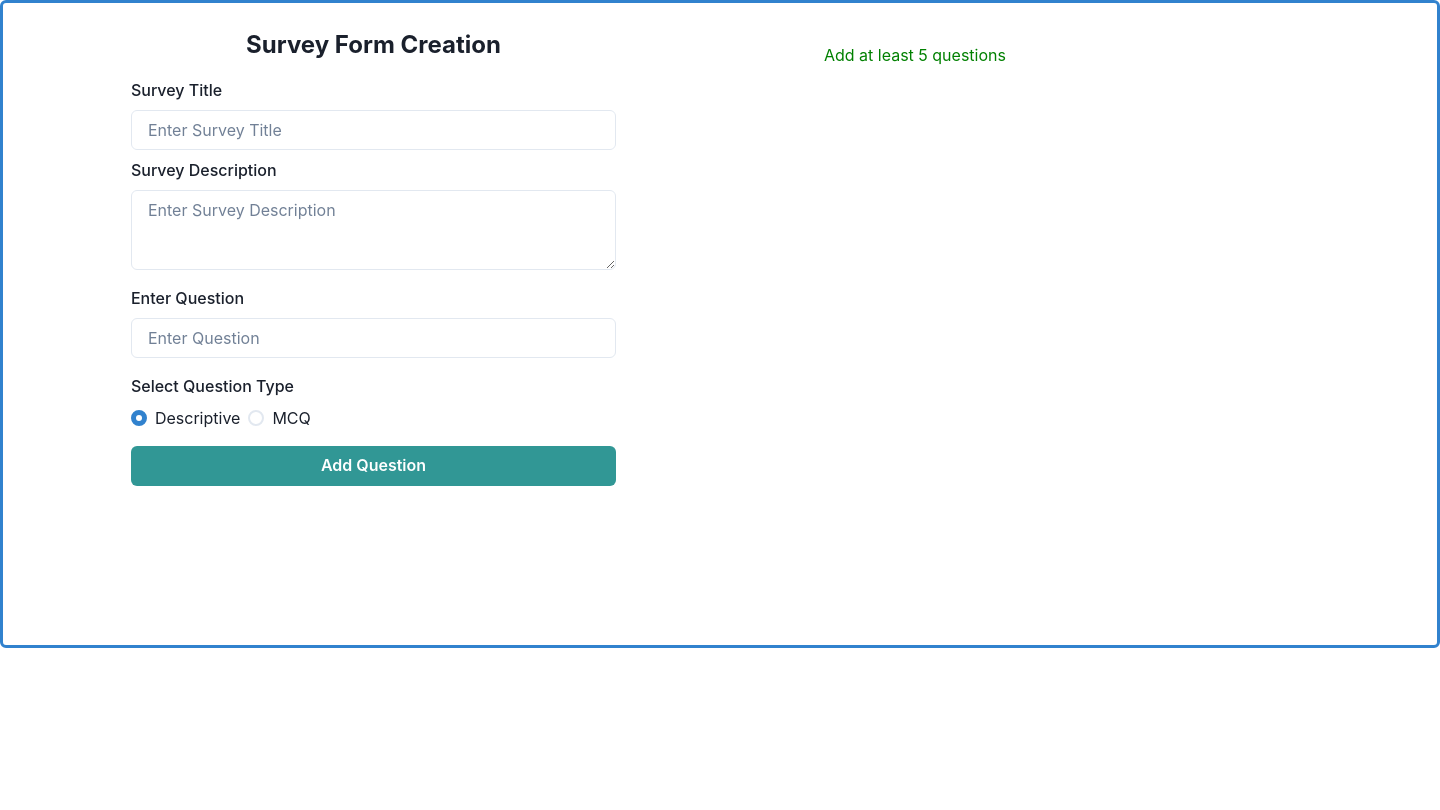
Test: survey page component testing › should question is displaying
This screenshot has width=1440, height=810.
Step 1. Type "Question1" into the field with placeholder "Enter Question" → (374, 338), box top-left (131, 318), bottom-right (616, 358)
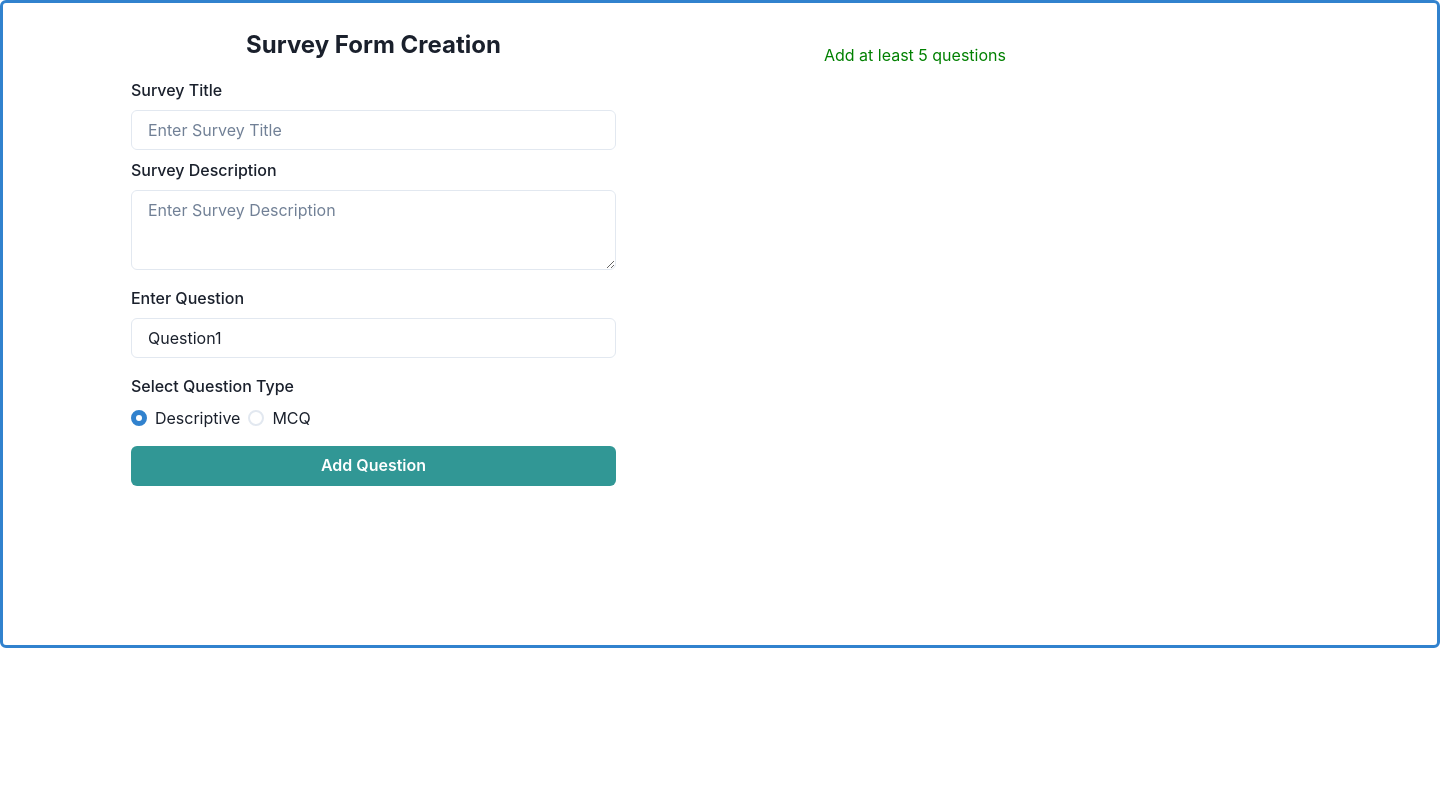
Step 2. Click the button "Add Question" → (374, 466), box top-left (131, 446), bottom-right (616, 486)
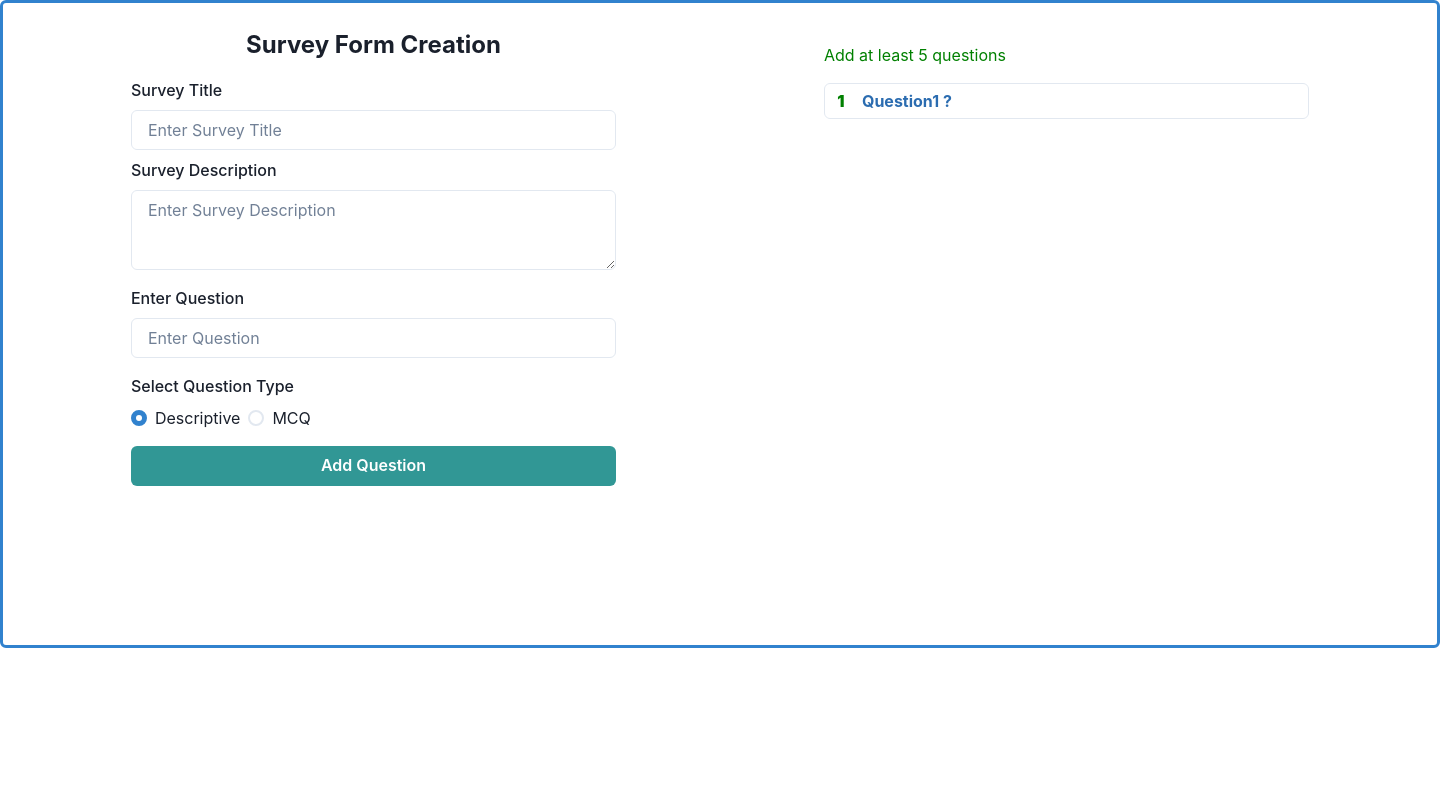
expect the text "Question1 ?" is shown: met, box top-left (862, 91), bottom-right (952, 111)
